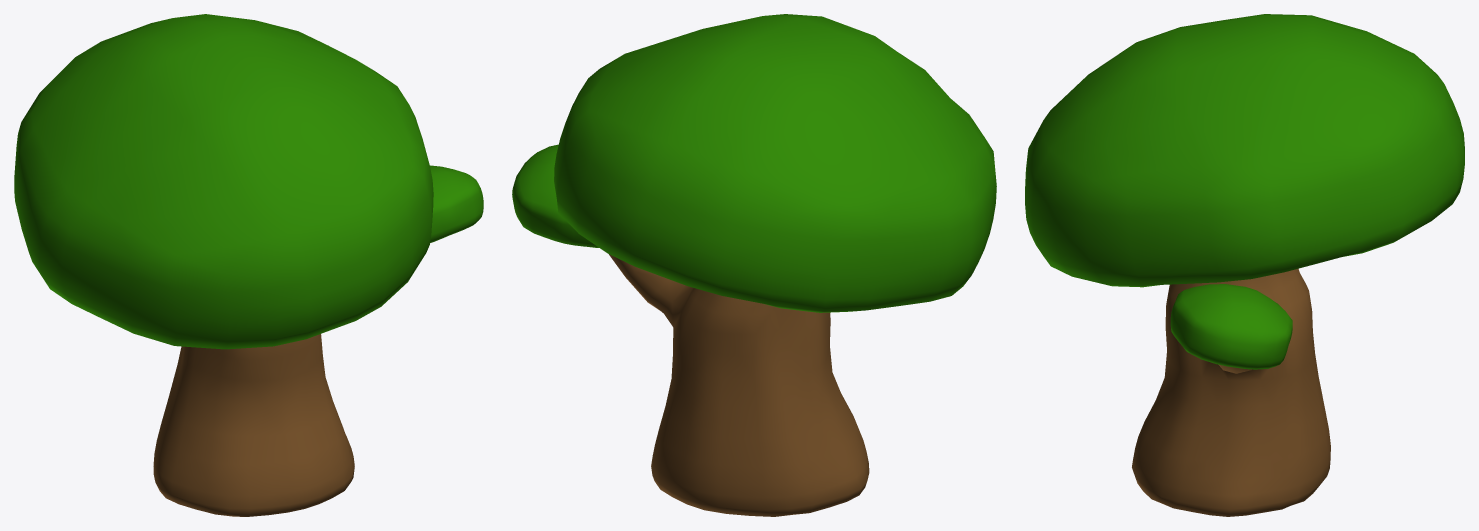
The model's file is tree1.fbx.
3 renders of one model, left to right at view 1: azimuth 30°, elevation 25°; view 2: azimuth 150°, elevation 25°; view 3: azimuth 270°, elevation 25°, orthographic. The views are drawn at different scales.
Visible parts, largest first — view 1: Cube.001, Cube, Cube.002; view 2: Cube.001, Cube, Cube.002; view 3: Cube.001, Cube, Cube.002.
Part boxes in pixels (x1,y1,x2,y2): Cube.001: (14,14,433,349); Cube: (153,334,354,516); Cube.002: (430,165,483,242); Cube.001: (554,14,996,312); Cube: (609,254,869,516); Cube.002: (512,144,598,247); Cube.001: (1025,14,1464,287); Cube: (1132,268,1330,516); Cube.002: (1170,284,1292,369).
Size of the model in its own units: 1301 by 1246 by 1139.
